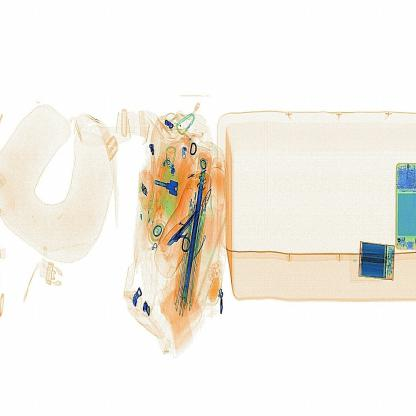wrench: (157, 209, 218, 260)
